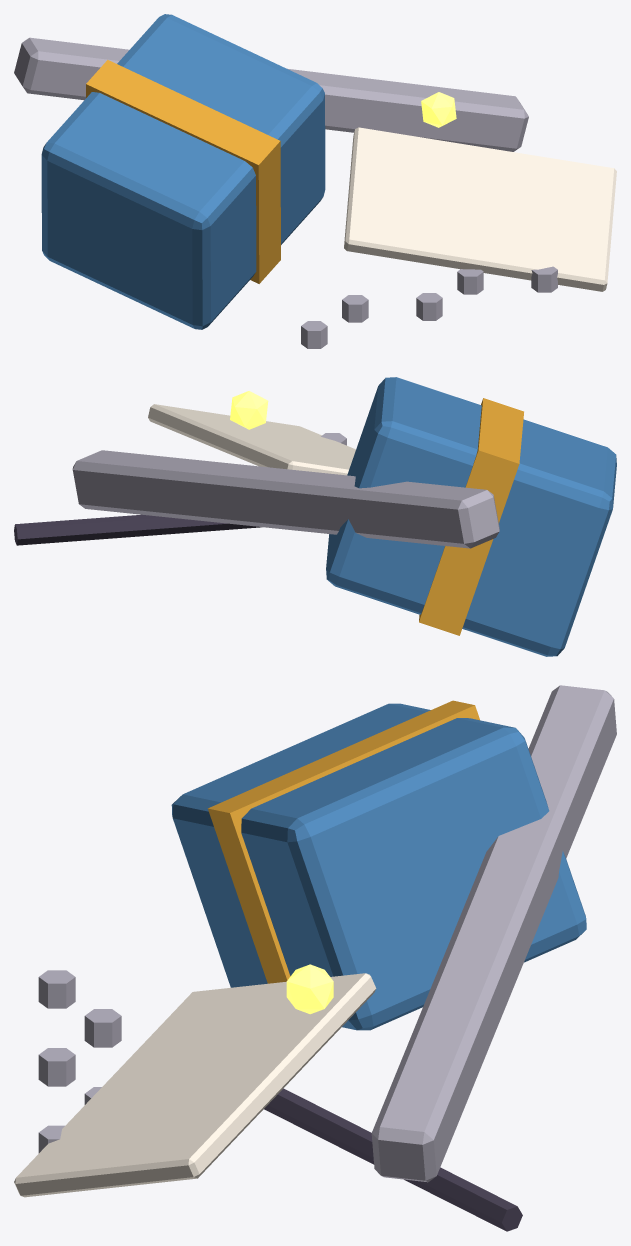
File: MOONSHIFT_ENV_Debris_Obstacles.glb
The picture shows the model from 3 angles, top to bottom: view 1: azimuth 30°, elevation 25°; view 2: azimuth 150°, elevation 25°; view 3: azimuth 270°, elevation 25°; orthographic projection. The views are drawn at different scales.
Parts seen in each view (by area): view 1: Debris_FallenCrate, Debris_BentPanel, Debris_Beam, Debris_FallenCrateBand, Debris_Spark, Debris_Bolt3, Debris_Bolt2, Debris_Bolt4, Debris_Bolt1, Debris_Bolt0; view 2: Debris_FallenCrate, Debris_Beam, Debris_FallenCrateBand, Debris_BentPanel, Debris_Cable, Debris_Spark; view 3: Debris_FallenCrate, Debris_Beam, Debris_BentPanel, Debris_FallenCrateBand, Debris_Cable, Debris_Spark, Debris_Bolt2, Debris_Bolt4, Debris_Bolt3.
Boxes of the visible parts, left/top/right/bottom form: Debris_FallenCrate: left=41, top=14, right=325, bottom=329; Debris_BentPanel: left=344, top=127, right=616, bottom=291; Debris_Beam: left=14, top=37, right=528, bottom=151; Debris_FallenCrateBand: left=86, top=60, right=280, bottom=283; Debris_Spark: left=421, top=92, right=456, bottom=127; Debris_Bolt3: left=342, top=295, right=368, bottom=322; Debris_Bolt2: left=416, top=293, right=442, bottom=320; Debris_Bolt4: left=301, top=321, right=327, bottom=348; Debris_Bolt1: left=457, top=269, right=483, bottom=294; Debris_Bolt0: left=531, top=266, right=557, bottom=292; Debris_FallenCrate: left=326, top=377, right=616, bottom=656; Debris_Beam: left=72, top=450, right=499, bottom=548; Debris_FallenCrateBand: left=419, top=398, right=523, bottom=635; Debris_BentPanel: left=148, top=404, right=355, bottom=475; Debris_Cable: left=14, top=514, right=261, bottom=545; Debris_Spark: left=230, top=391, right=268, bottom=429; Debris_FallenCrate: left=171, top=703, right=586, bottom=1030; Debris_Beam: left=371, top=685, right=616, bottom=1182; Debris_BentPanel: left=14, top=973, right=376, bottom=1197; Debris_FallenCrateBand: left=208, top=700, right=479, bottom=983; Debris_Cable: left=264, top=1088, right=522, bottom=1231; Debris_Spark: left=286, top=964, right=333, bottom=1014; Debris_Bolt2: left=38, top=1048, right=75, bottom=1086; Debris_Bolt4: left=38, top=970, right=75, bottom=1008; Debris_Bolt3: left=84, top=1009, right=121, bottom=1047.
Size of the model in its own units: 1.78 by 0.7595 by 1.31.
